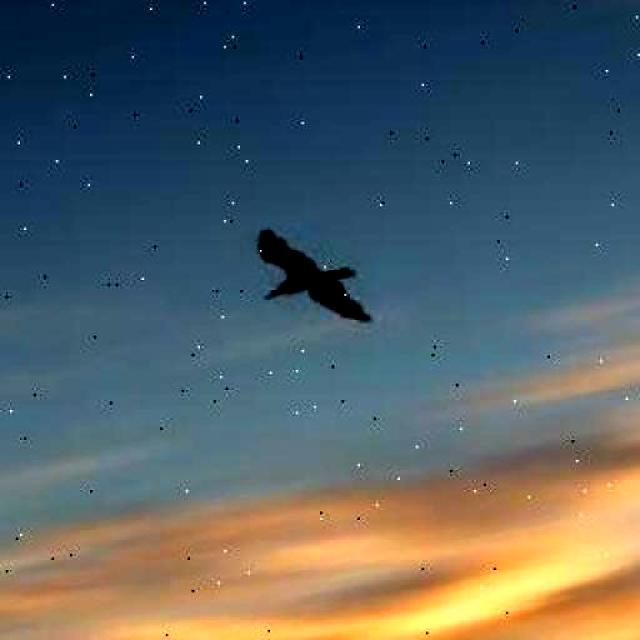airplane: (252, 214, 371, 342)
